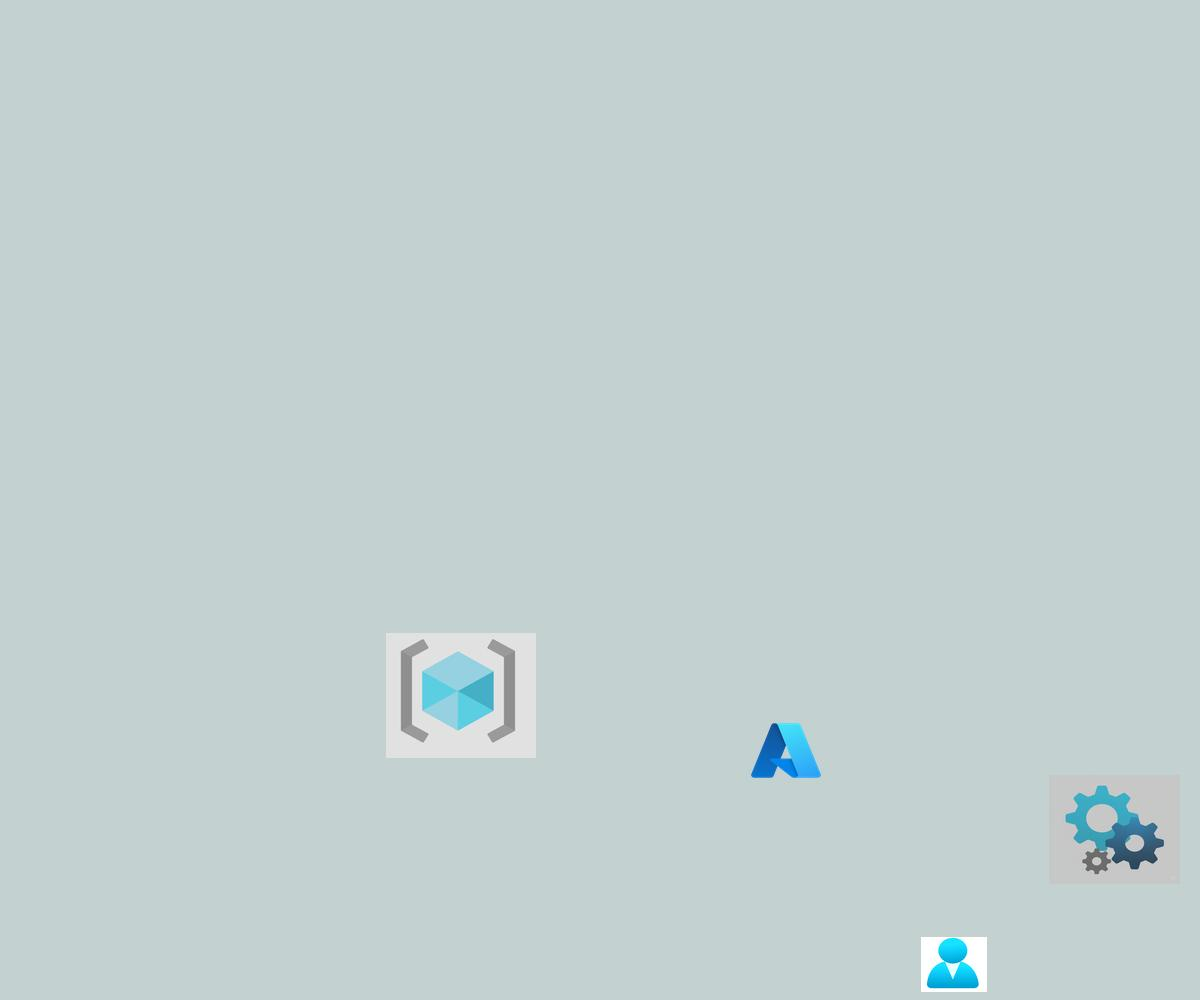Azure_api: (1049, 775, 1180, 884)
Azure_resource_group: (386, 633, 536, 758)
Azure_services: (748, 719, 824, 782)
Azure_users: (921, 937, 987, 992)
